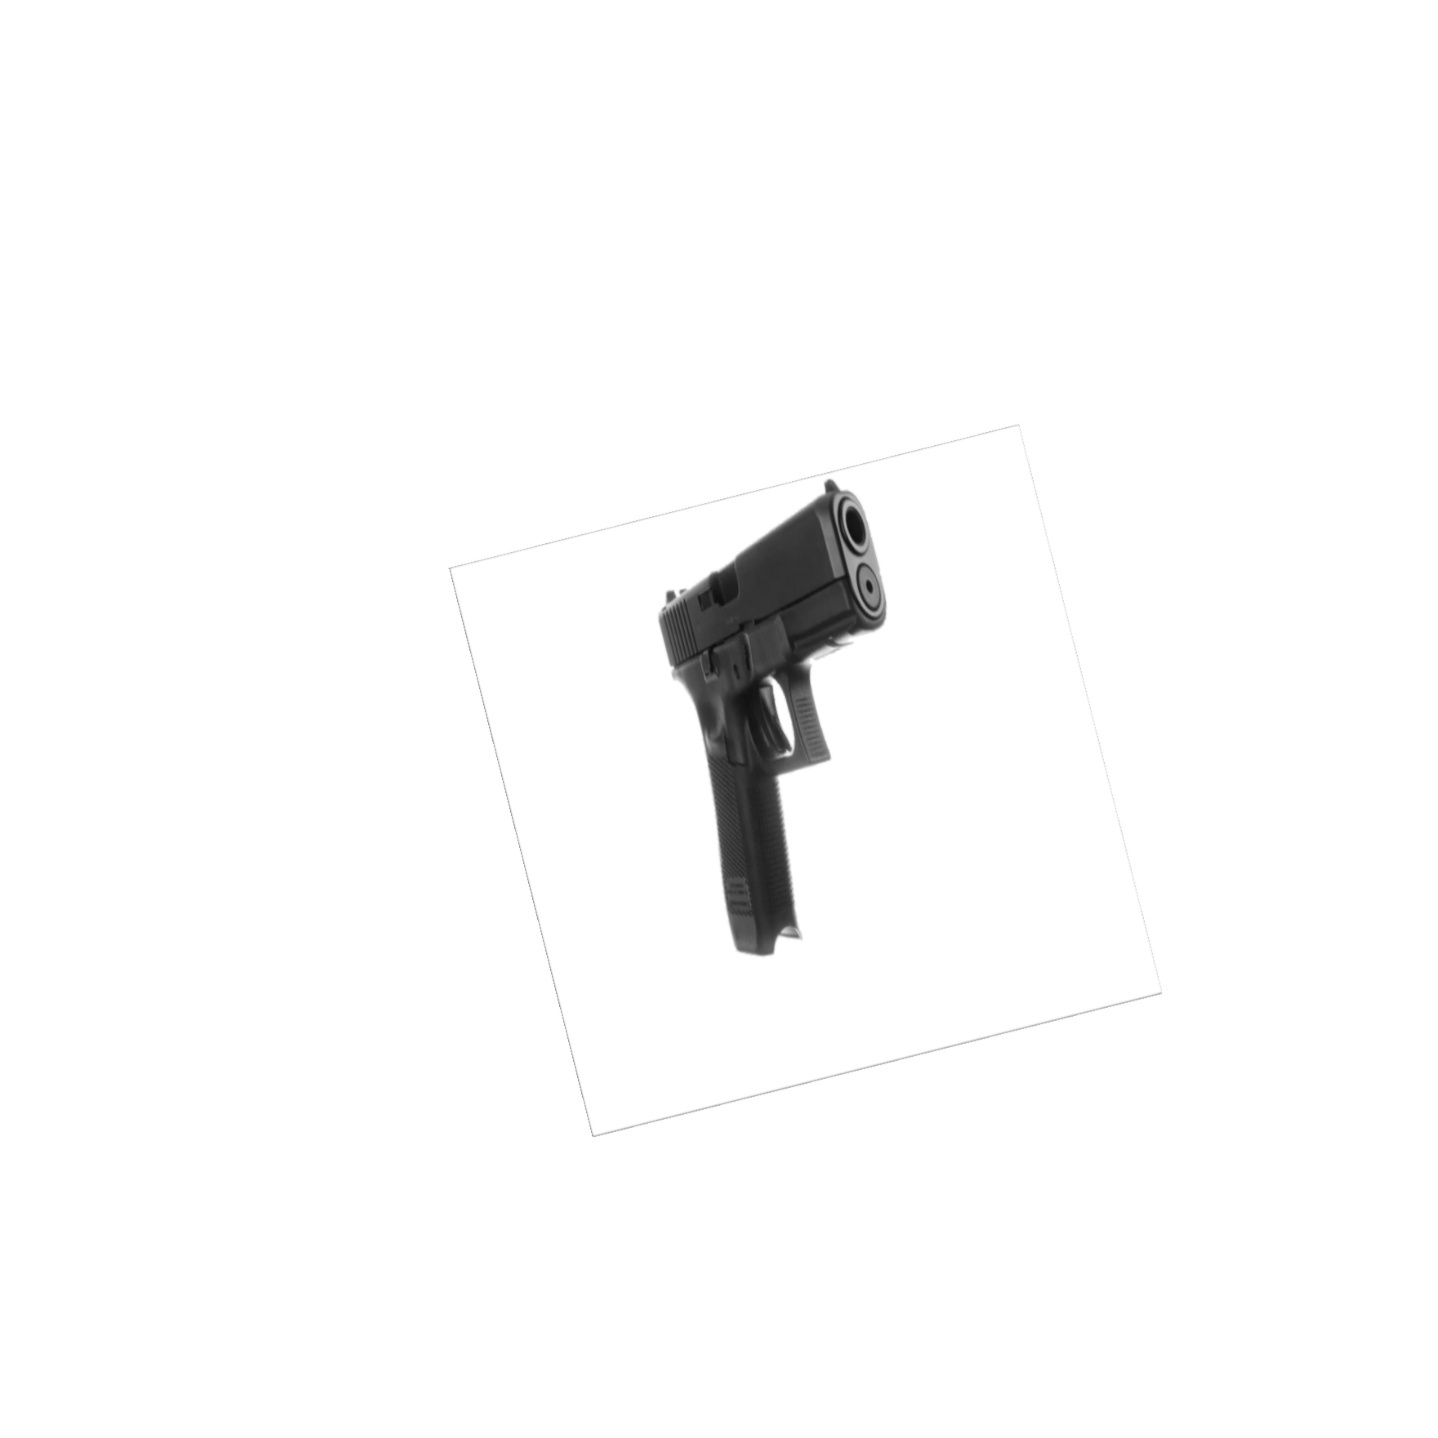gun: (652, 471, 894, 961)
